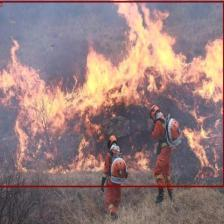fire: (0, 0, 224, 187)
